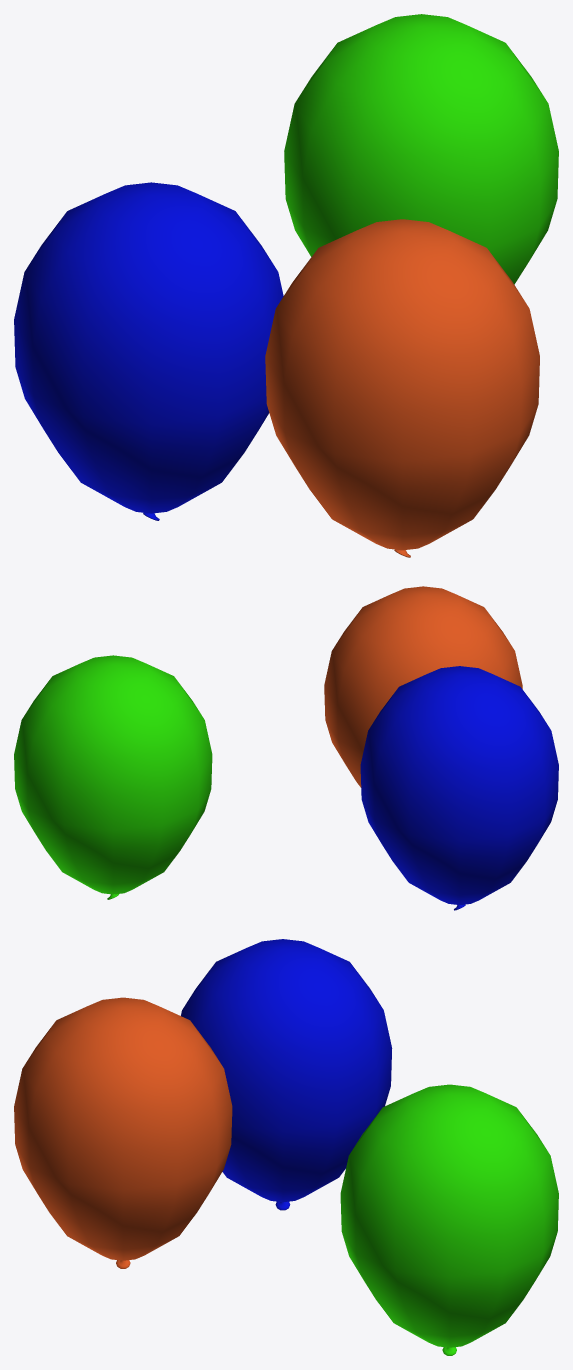
File: balloon.dae
3 renders of one model, top to bottom at view 1: azimuth 30°, elevation 25°; view 2: azimuth 150°, elevation 25°; view 3: azimuth 270°, elevation 25°, orthographic. The views are drawn at different scales.
Visible parts, largest first — view 1: balloon, balloon_001, balloon_002; view 2: balloon_001, balloon_002, balloon; view 3: balloon_002, balloon, balloon_001.
Part boxes in pixels (bbox=[...]): balloon: bbox=[265, 219, 539, 557]; balloon_001: bbox=[14, 182, 283, 520]; balloon_002: bbox=[284, 14, 558, 284]; balloon_001: bbox=[360, 666, 558, 910]; balloon_002: bbox=[14, 655, 212, 899]; balloon: bbox=[324, 586, 522, 787]; balloon_002: bbox=[340, 1084, 558, 1355]; balloon: bbox=[14, 997, 232, 1268]; balloon_001: bbox=[181, 939, 392, 1210].
Size of the model in its own units: 1.13 by 1.09 by 0.5732.
